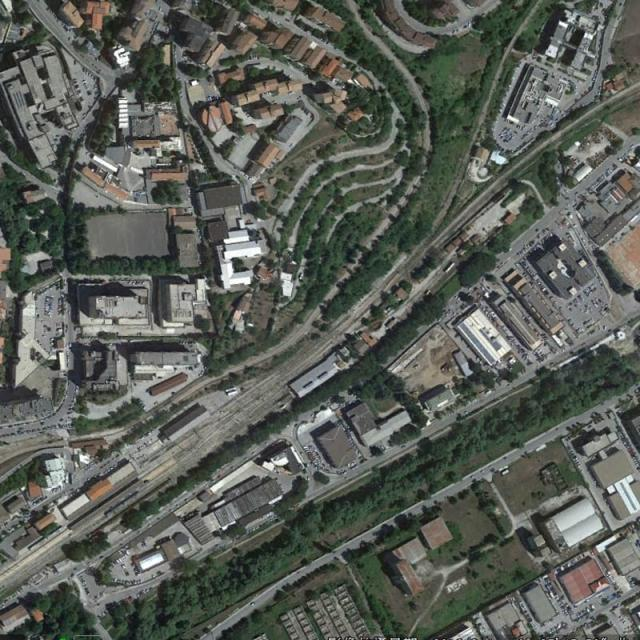vehicle: (227, 390, 238, 396), (226, 387, 236, 393)
